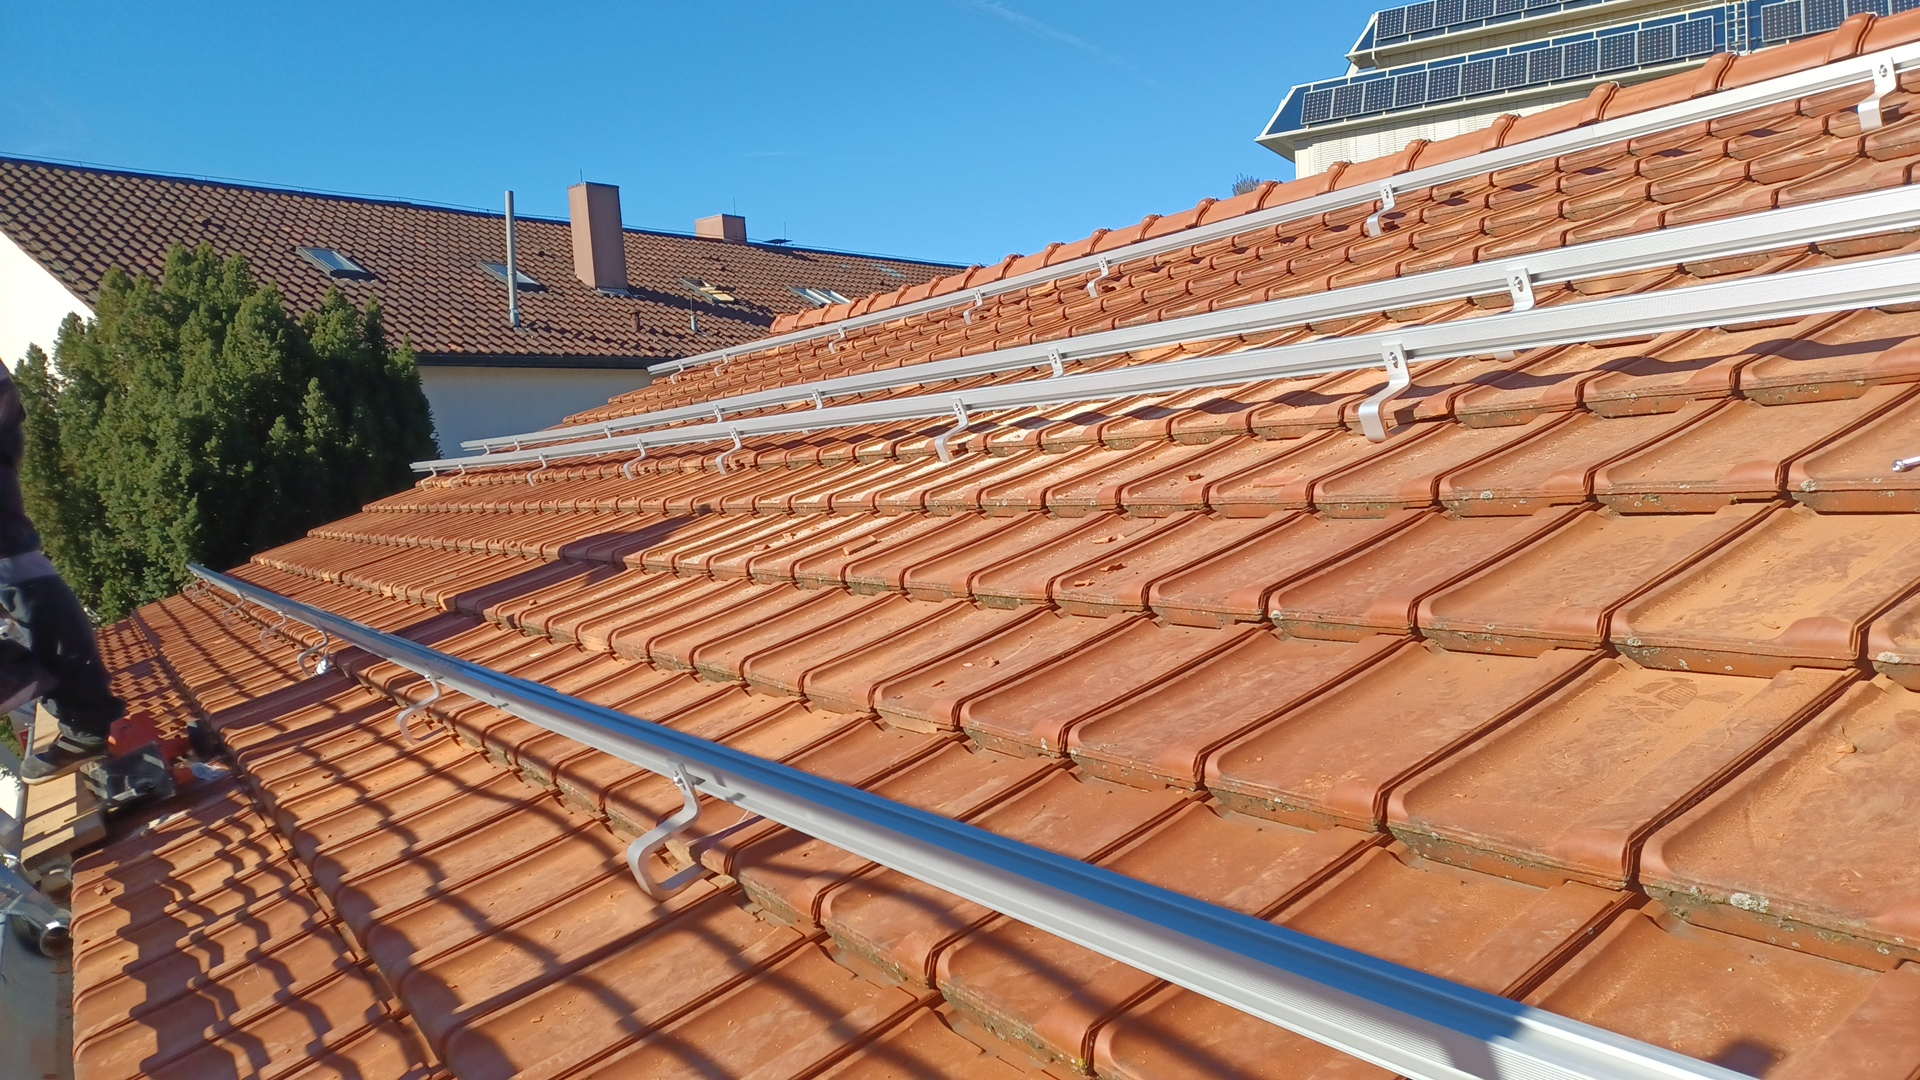hook: (626, 758, 715, 901), (1358, 343, 1412, 440), (397, 663, 447, 745), (1491, 266, 1535, 360), (1857, 57, 1898, 131), (935, 398, 968, 462), (1030, 348, 1063, 409), (297, 618, 328, 678), (1367, 183, 1396, 236), (715, 427, 742, 475), (260, 605, 286, 651), (800, 389, 822, 436), (622, 439, 646, 479), (1087, 257, 1109, 297), (223, 589, 247, 626), (702, 405, 723, 444), (963, 289, 982, 324), (527, 454, 547, 487), (593, 425, 611, 458), (828, 324, 845, 353), (419, 464, 436, 492), (193, 575, 210, 603), (450, 462, 465, 489), (713, 352, 729, 377), (182, 574, 199, 596), (506, 438, 520, 465), (477, 442, 491, 468), (670, 361, 684, 384)
